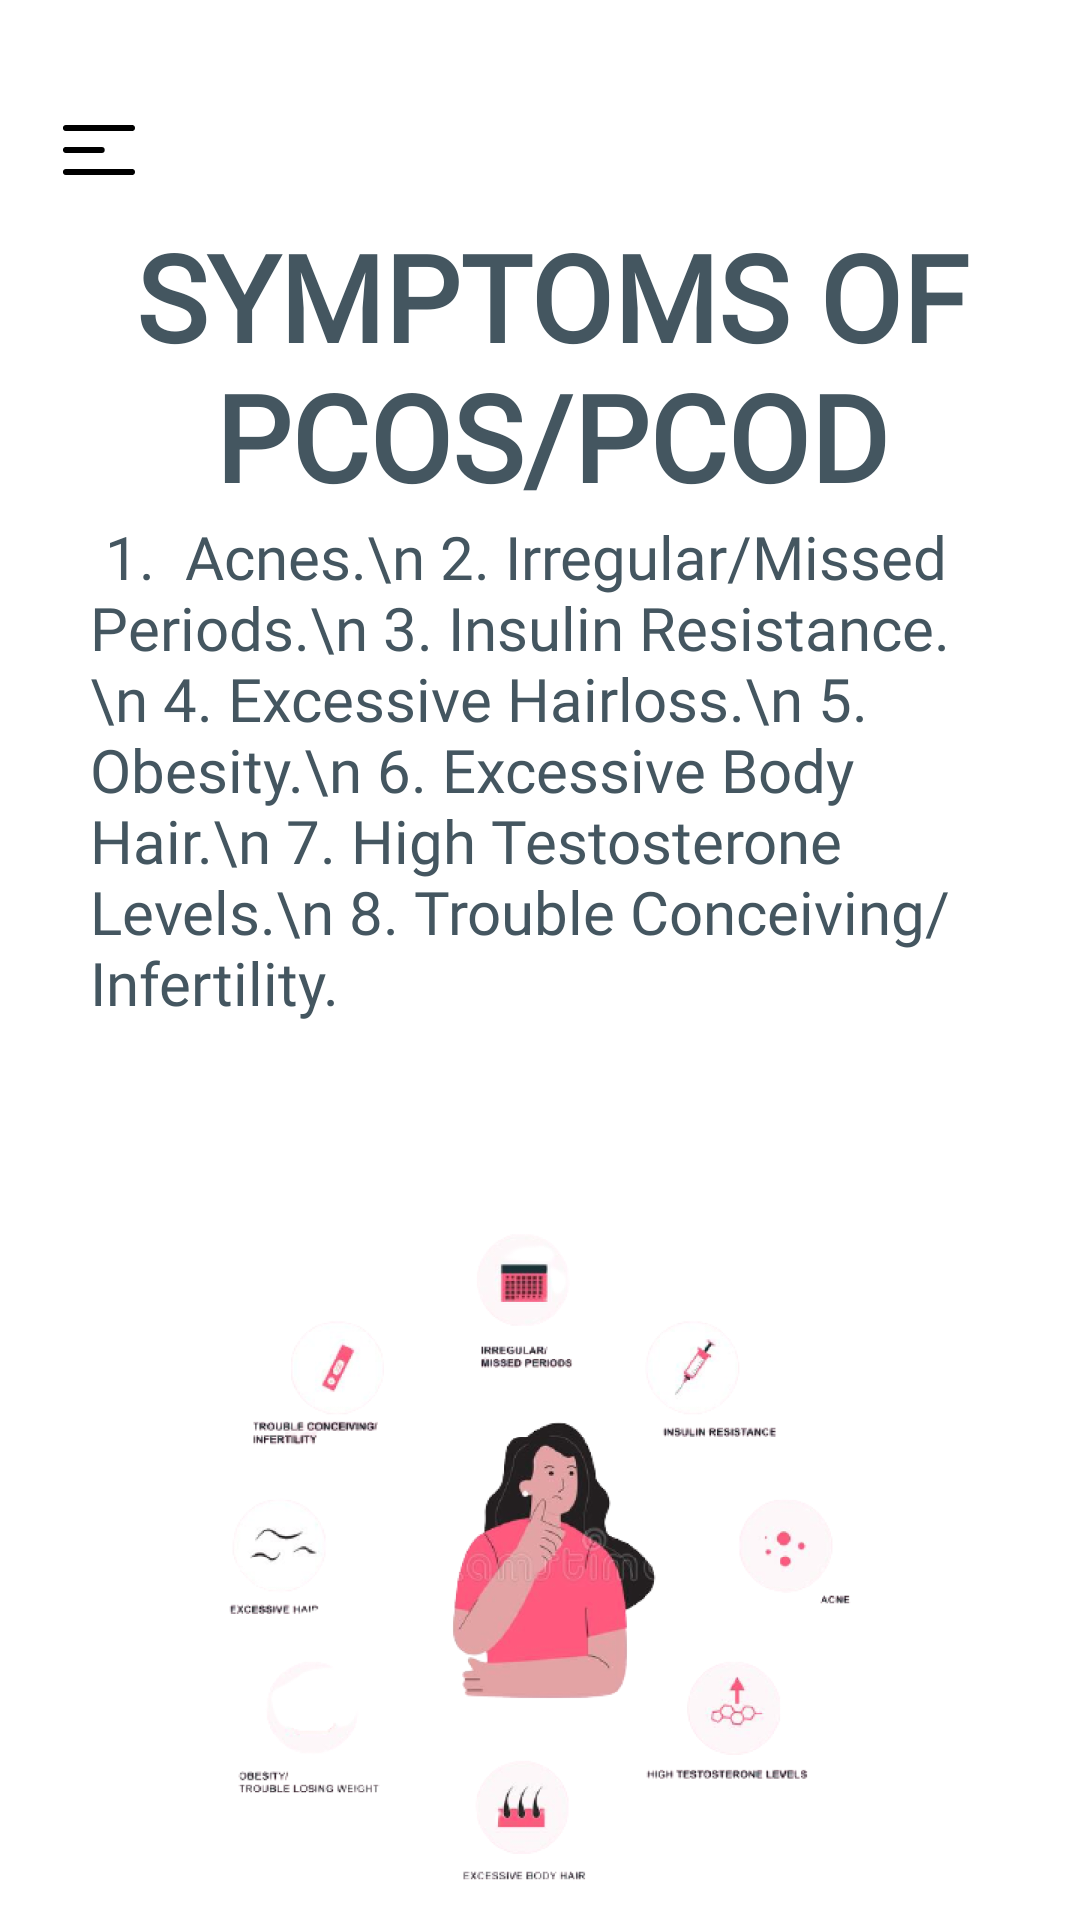

Locate icon controls on the screen. Image size 1080px×1920px, boxes as bbox=[x1, y1, x2, y2].
hamburger: bbox=[63, 125, 135, 175]
